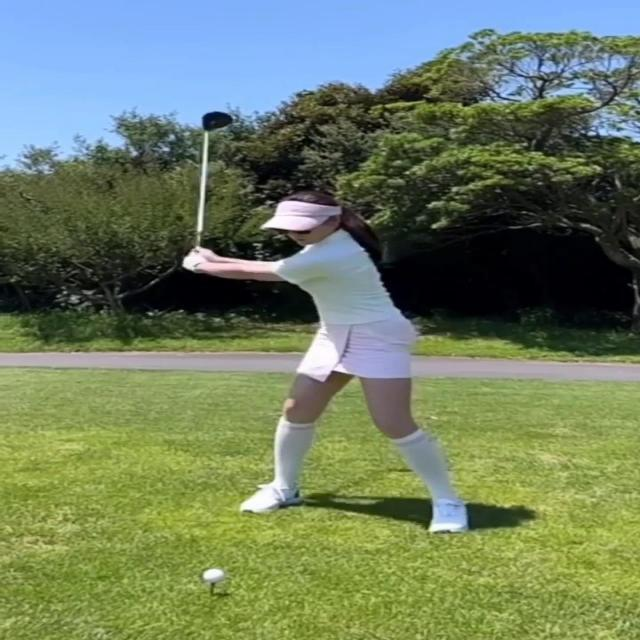ClubHead: (204, 111, 234, 133)
GolfBall: (202, 568, 225, 582)
